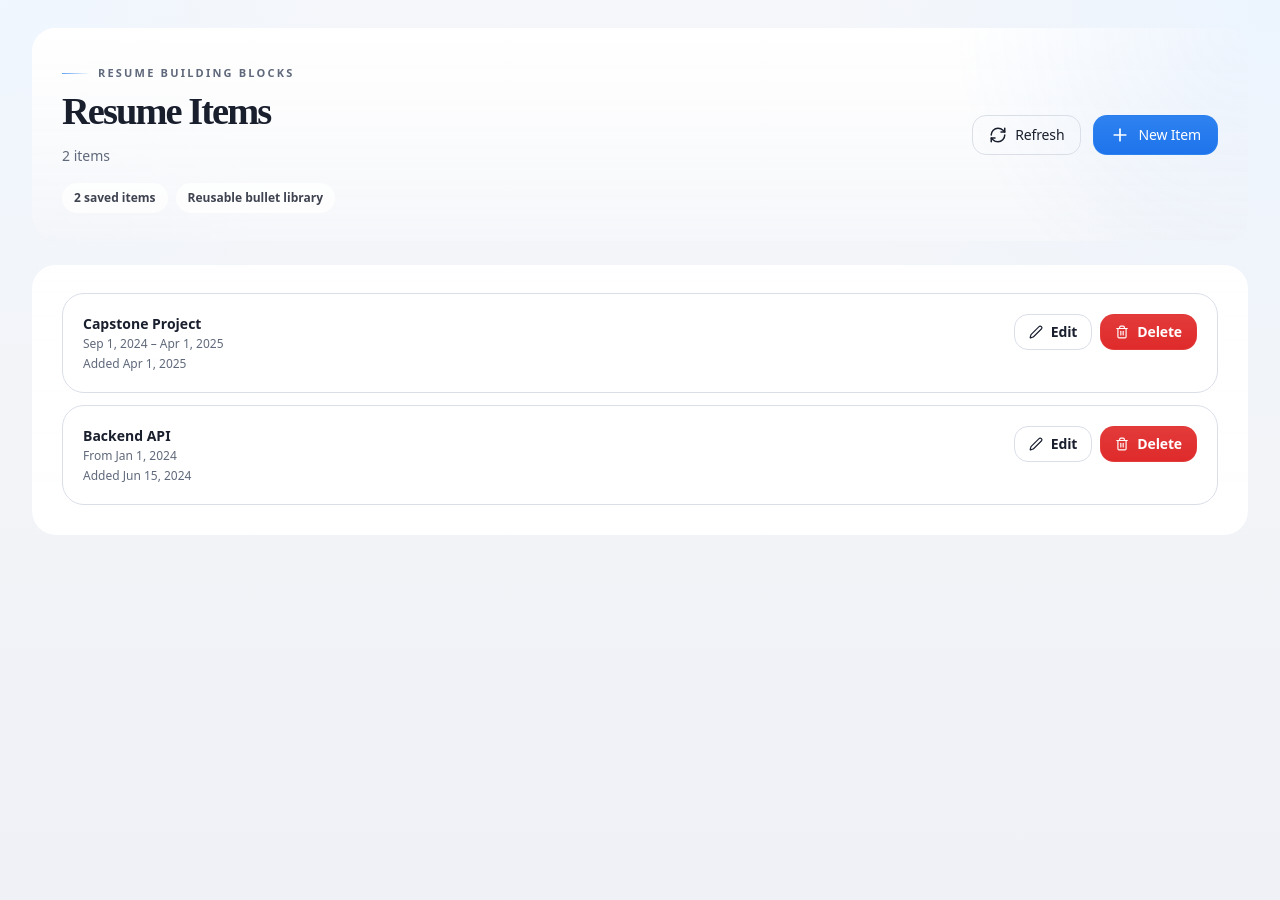
Test: ResumesPage › opens create dialog when 'New Item' button clicked
Click the button "New Item".
click(1156, 135)  # box x1=1093 y1=115 x2=1218 y2=155
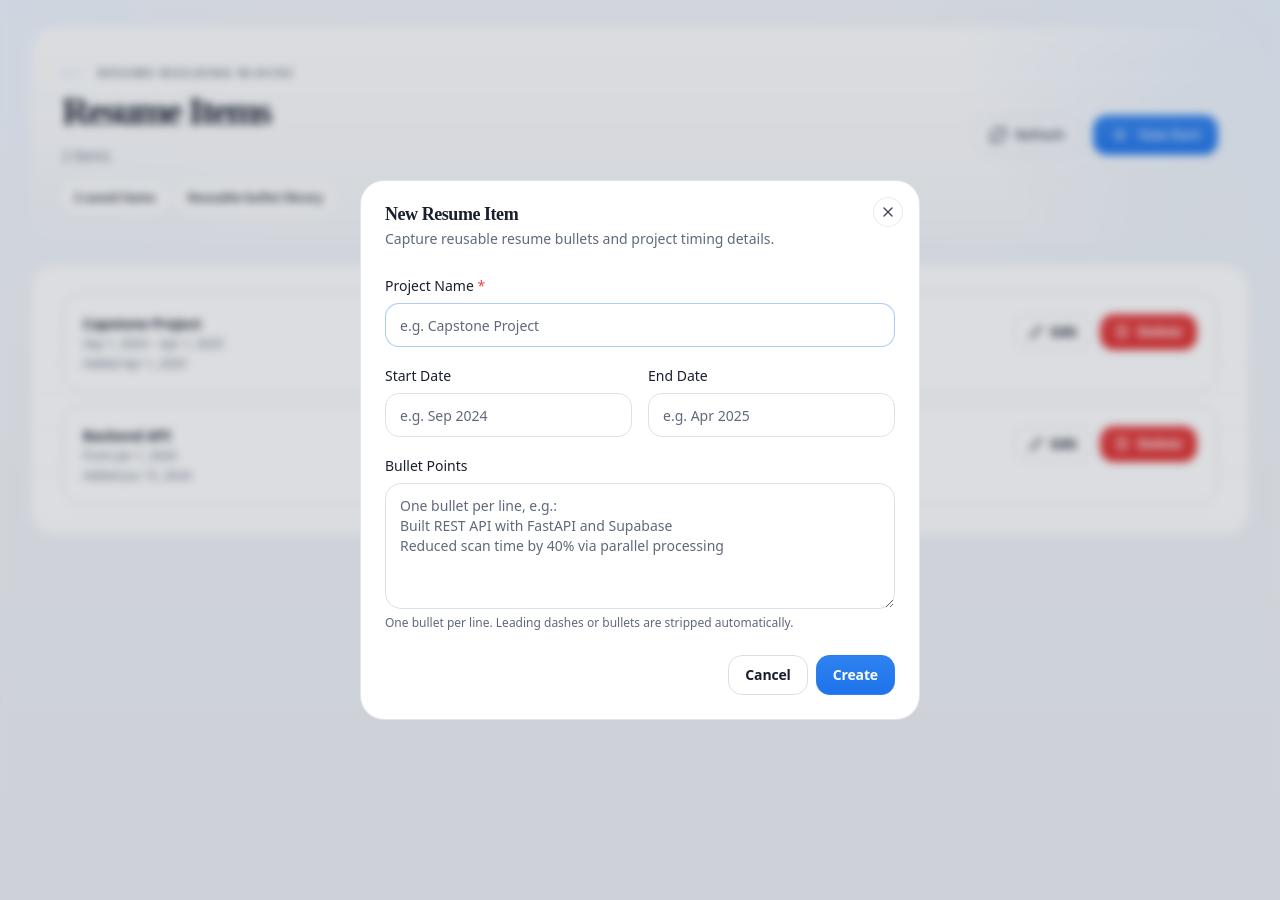
Result: the heading "New Resume Item" is shown at x1=385 y1=204 x2=518 y2=224
Result: the field labelled "Project Name *" is shown at x1=385 y1=303 x2=895 y2=347
